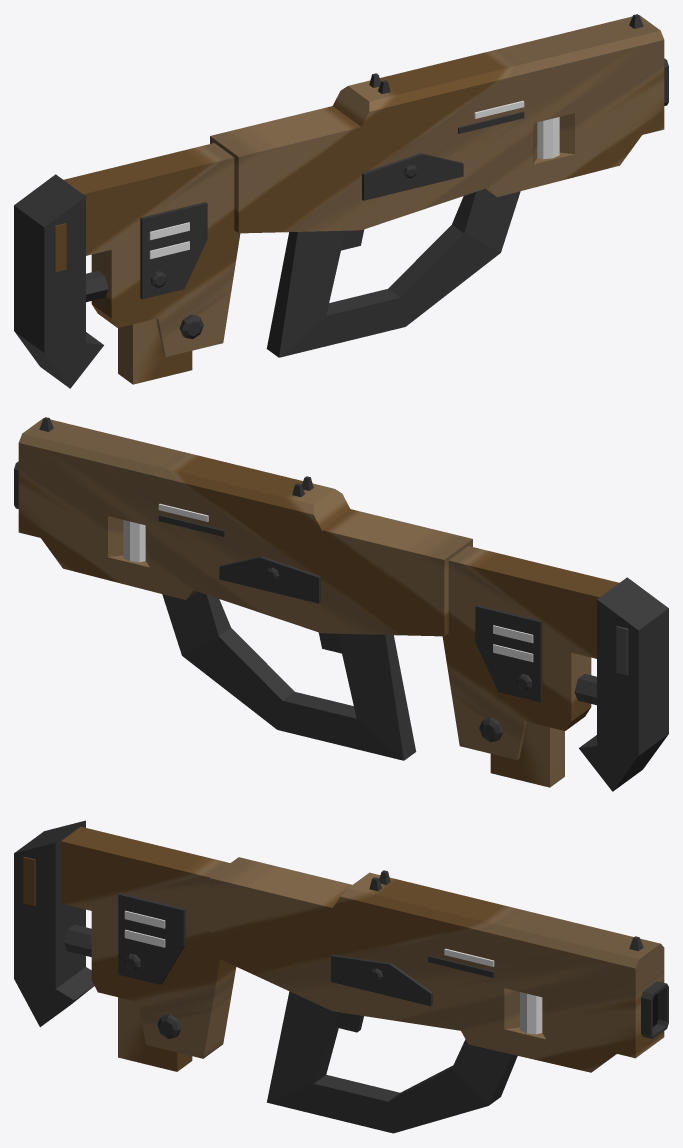
Rendered from Rifle_E_V3.FBX.
The picture shows the model from 3 angles, top to bottom: view 1: azimuth 30°, elevation 25°; view 2: azimuth 150°, elevation 25°; view 3: azimuth 330°, elevation 25°; orthographic projection.
Visible parts, largest first — view 1: Rifle_E_V3, Magazine; view 2: Rifle_E_V3, Magazine; view 3: Rifle_E_V3, Magazine.
Boxes of the visible parts, left/top/right/bottom form: Rifle_E_V3: left=14, top=14, right=668, bottom=388; Magazine: left=118, top=319, right=192, bottom=384; Rifle_E_V3: left=14, top=417, right=668, bottom=791; Magazine: left=490, top=722, right=564, bottom=787; Rifle_E_V3: left=14, top=820, right=668, bottom=1133; Magazine: left=118, top=997, right=192, bottom=1071.
Size of the model in its own units: 340 by 128 by 34.55.
